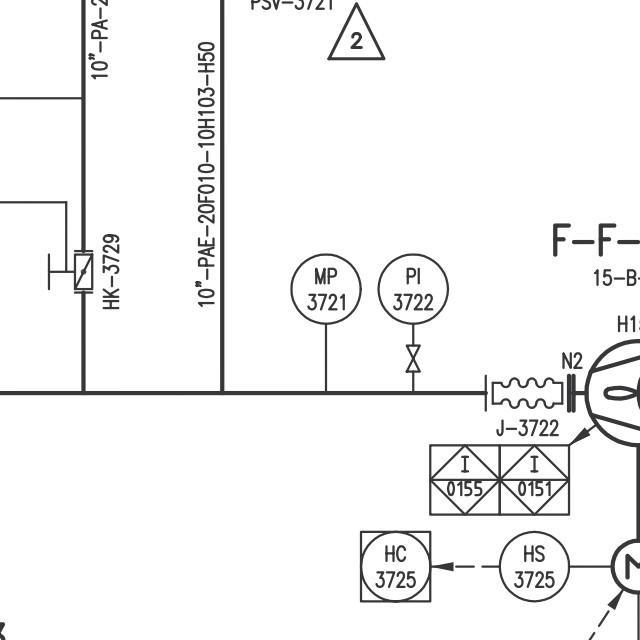BV: (42, 248, 93, 294)
EJ: (476, 367, 569, 416)
GV: (402, 339, 423, 378)
